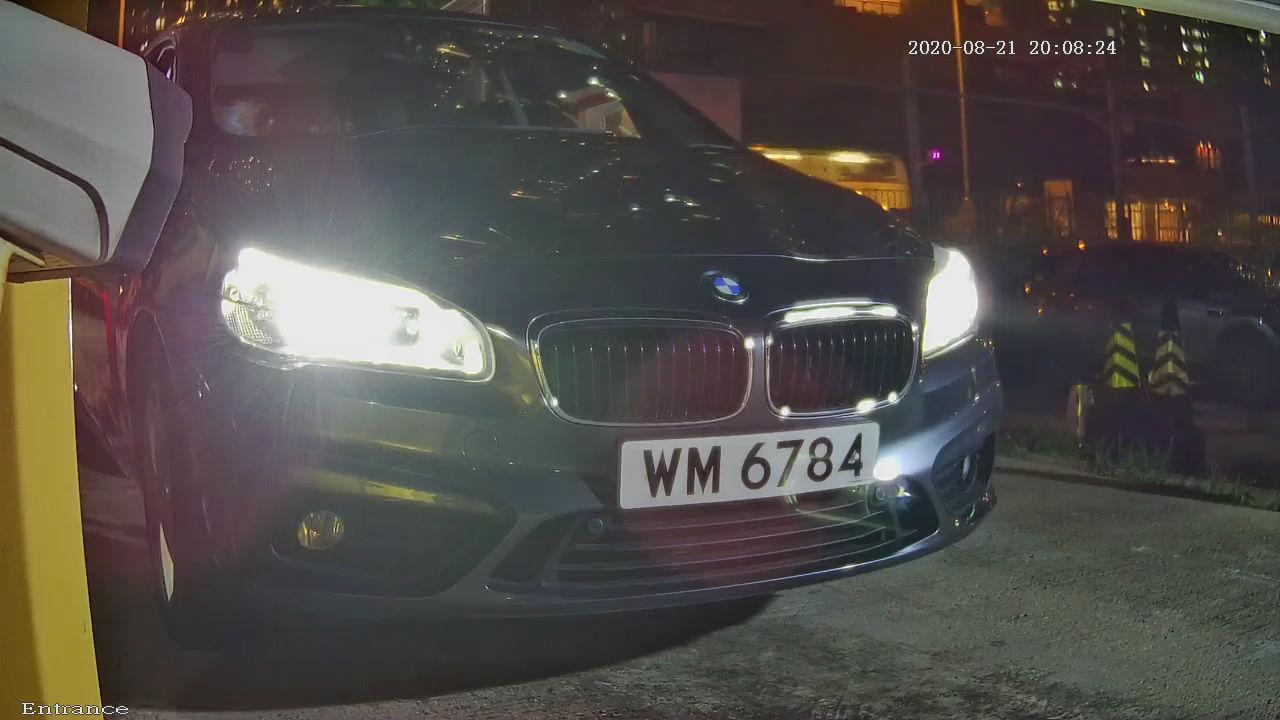Car: (41, 23, 1092, 659)
License Plate: (591, 384, 914, 533)
